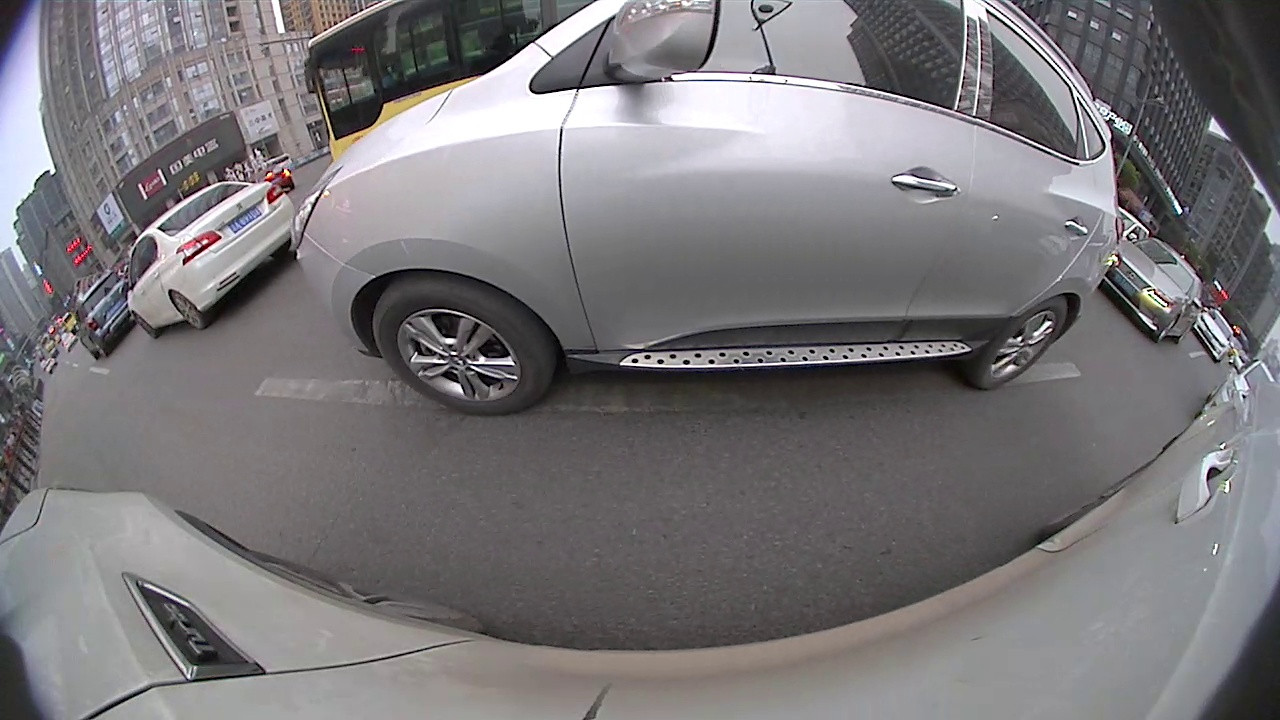bus: (302, 1, 675, 166)
car: (288, 1, 1123, 419), (122, 178, 298, 344), (1092, 234, 1207, 348), (72, 267, 133, 358)
front: (369, 275, 564, 418)
rear: (967, 292, 1069, 391), (169, 290, 208, 334)
